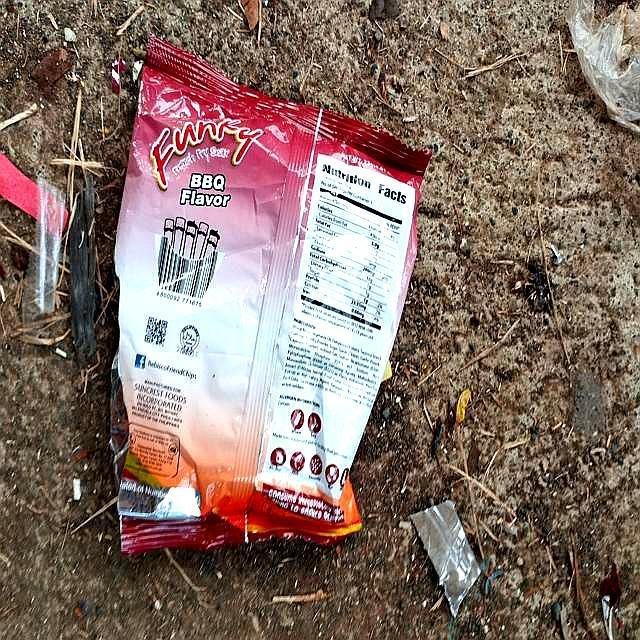Non-biodegradable: (110, 36, 434, 555)
